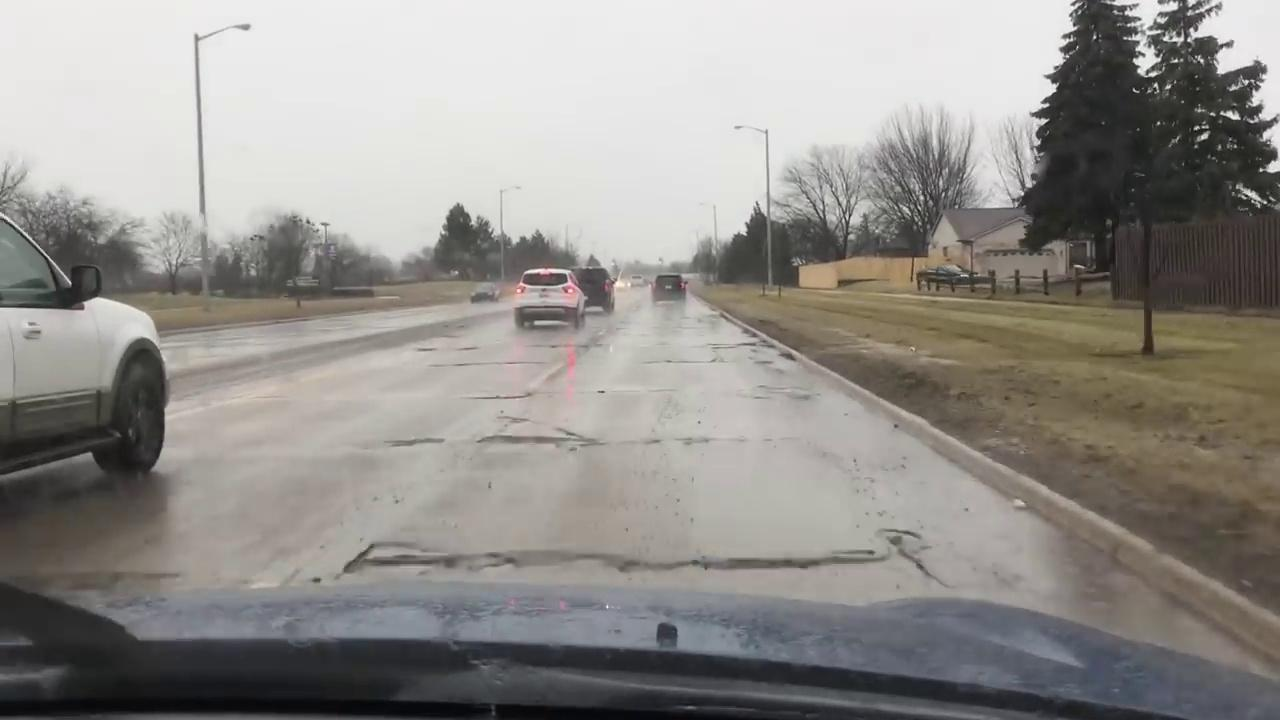pothole: (338, 536, 879, 574), (878, 529, 947, 590), (473, 426, 605, 445), (386, 437, 442, 449)
